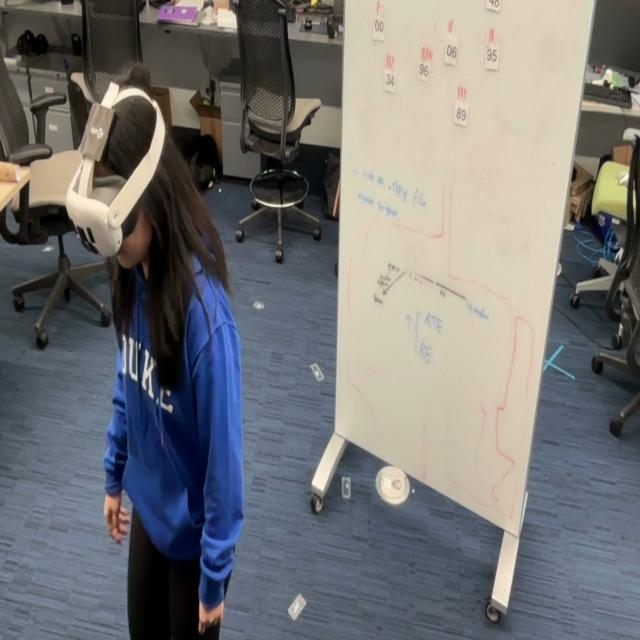Headset: (65, 81, 166, 260)
UnityLogo: (81, 92, 116, 170)
